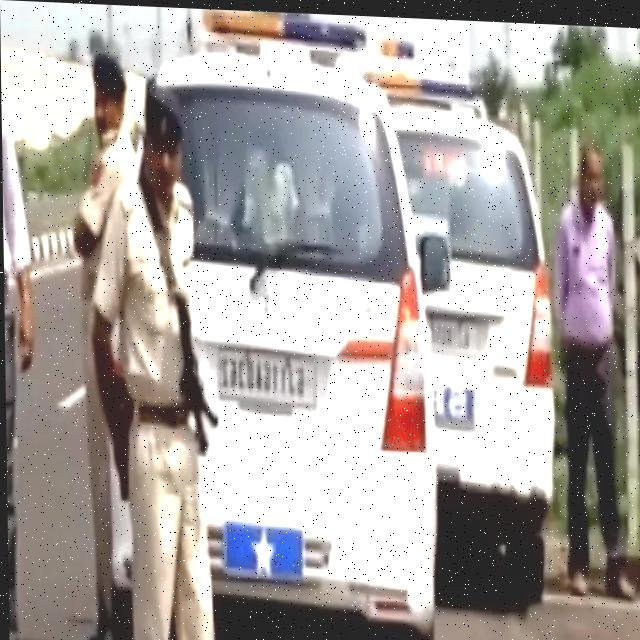plate: (210, 345, 323, 406), (421, 310, 486, 351)
